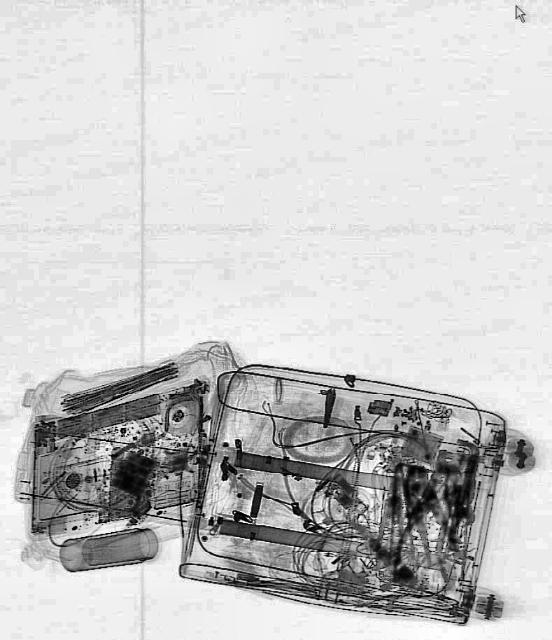Pliers: (392, 461, 466, 567)
